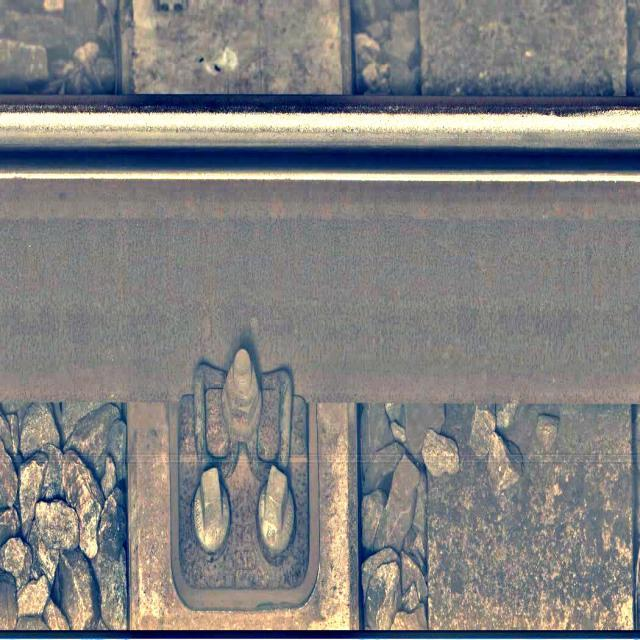Good Fasteners: (167, 349, 319, 611)
